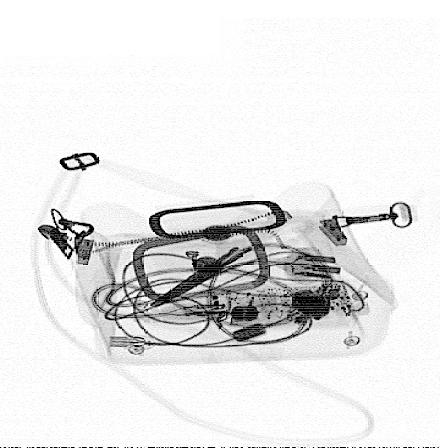Scissors: (144, 241, 259, 311)
